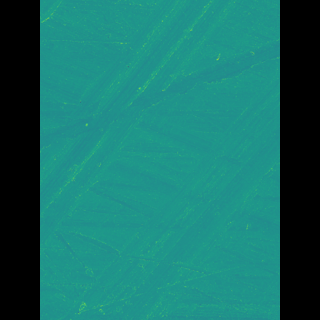Loch: (88, 62, 250, 320), (69, 0, 217, 250)
